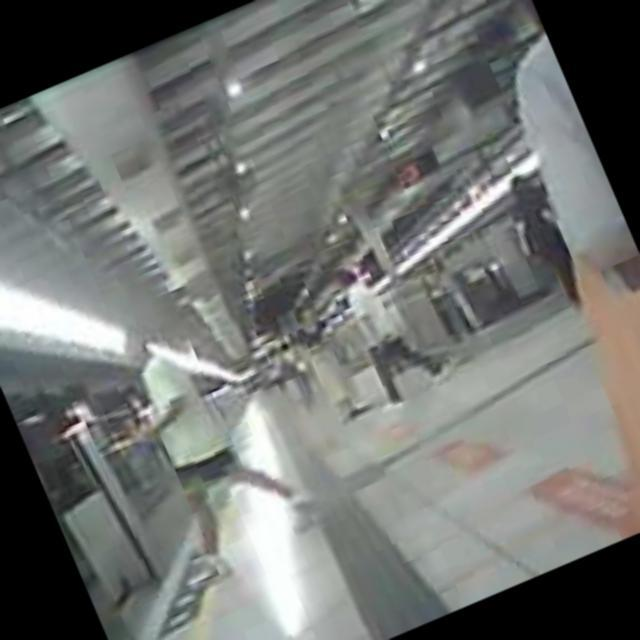person: (439, 0, 640, 524), (89, 288, 324, 585), (319, 242, 456, 416), (275, 293, 377, 437), (496, 163, 592, 311)
